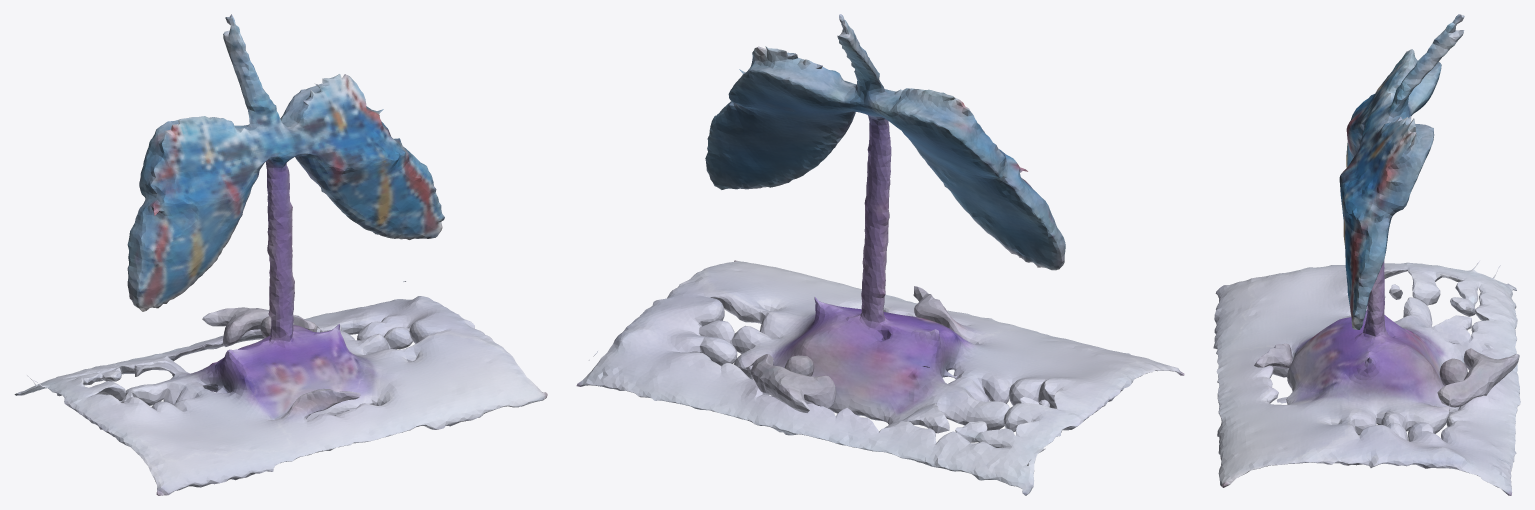
File: bamboo_butterfly.glb
3 renders of one model, left to right at view 1: azimuth 30°, elevation 25°; view 2: azimuth 150°, elevation 25°; view 3: azimuth 270°, elevation 25°, orthographic. The views are drawn at different scales.
Bounding box in the file's own units: 1.01 × 0.8762 × 0.6419.
1 material, 1 textured.
